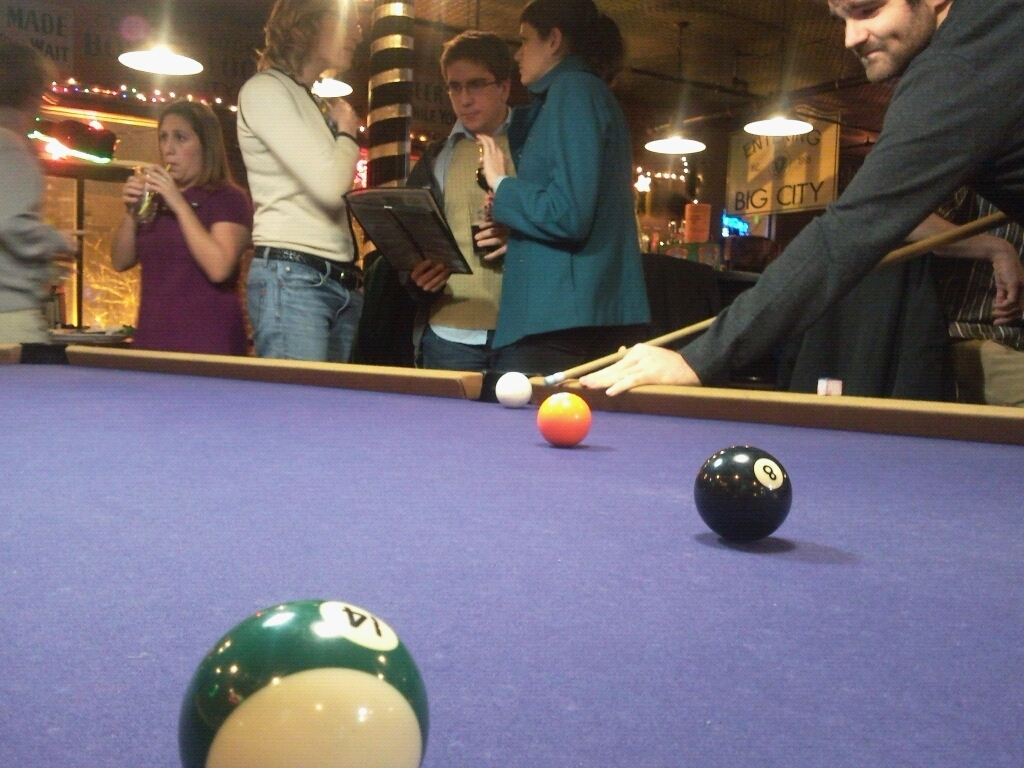Ball: (174, 595, 426, 767), (696, 443, 793, 544), (531, 391, 594, 449), (492, 371, 531, 415)
